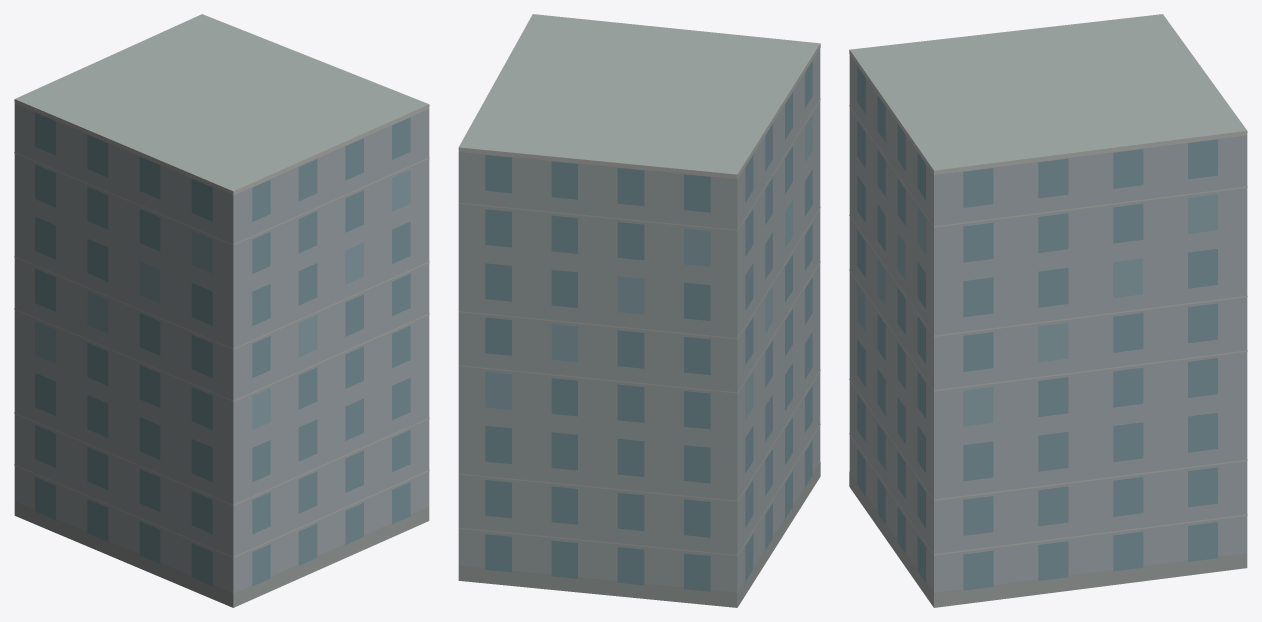
The model's file is survey-upis-32786393.glb.
The picture shows the model from 3 angles, left to right: view 1: azimuth 30°, elevation 25°; view 2: azimuth 150°, elevation 25°; view 3: azimuth 270°, elevation 25°; orthographic projection. The views are drawn at different scales.
Parts seen in each view (by area): view 1: survey-upis-32786393.tmp; view 2: survey-upis-32786393.tmp; view 3: survey-upis-32786393.tmp.
Boxes of the visible parts, x1,y1,x2,y2 form: survey-upis-32786393.tmp: [14, 14, 429, 607]; survey-upis-32786393.tmp: [458, 14, 820, 607]; survey-upis-32786393.tmp: [849, 14, 1247, 607].
Bounding box in the file's own units: 18.08 × 23.5 × 19.4.
